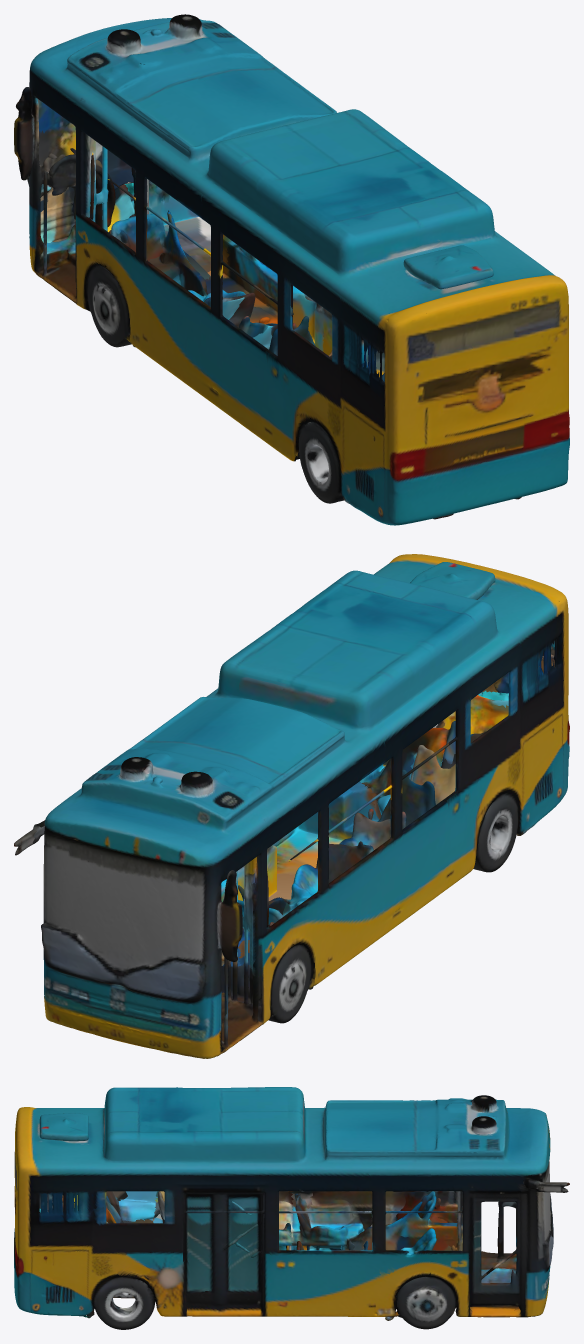
The picture shows the model from 3 angles, top to bottom: view 1: azimuth 30°, elevation 25°; view 2: azimuth 150°, elevation 25°; view 3: azimuth 270°, elevation 25°; orthographic projection. The views are drawn at different scales.
Visible parts, largest first — view 1: tripo_node_29de6184-3787-4b69-9f61-ce0647b583a2; view 2: tripo_node_29de6184-3787-4b69-9f61-ce0647b583a2; view 3: tripo_node_29de6184-3787-4b69-9f61-ce0647b583a2.
Boxes of the visible parts, x1,y1,x2,y2 form: tripo_node_29de6184-3787-4b69-9f61-ce0647b583a2: (14, 14, 569, 525); tripo_node_29de6184-3787-4b69-9f61-ce0647b583a2: (14, 554, 569, 1058); tripo_node_29de6184-3787-4b69-9f61-ce0647b583a2: (14, 1087, 569, 1329).
Size of the model in its own units: 30.49 by 37.99 by 100.
Materials: 1 (1 with a texture image).
